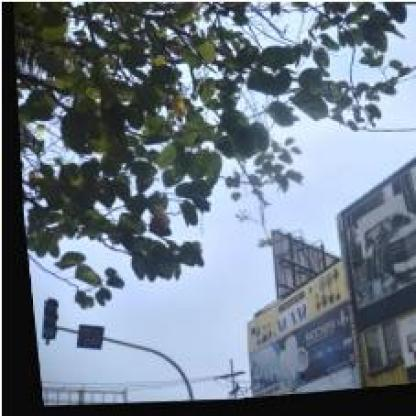green: (31, 298, 53, 340)
